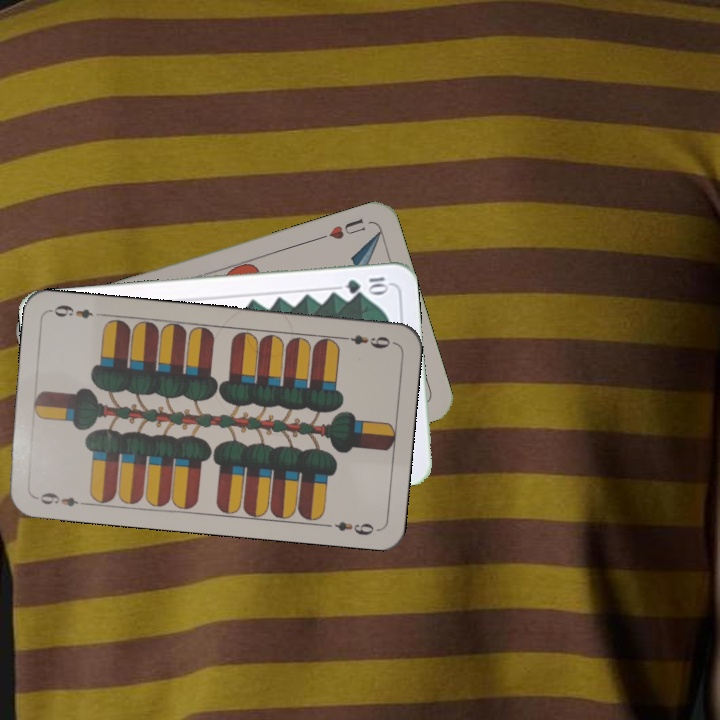E9: (31, 488, 90, 510), (337, 331, 396, 351)
G10: (341, 273, 391, 296)
HU: (315, 214, 368, 243)
